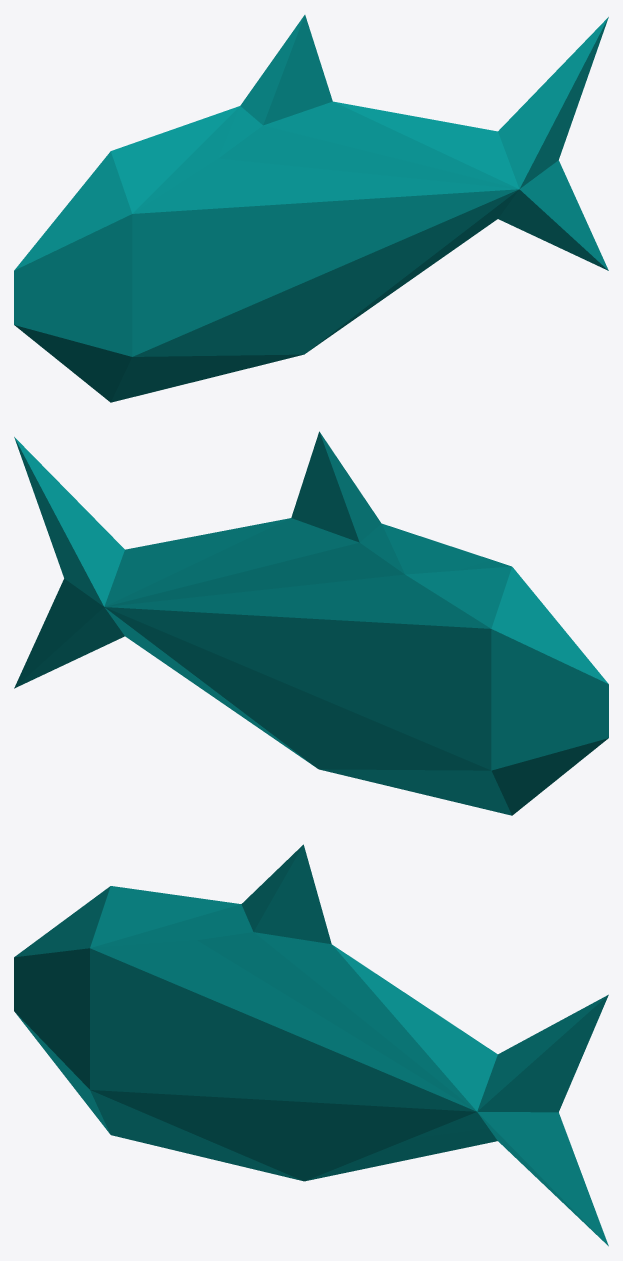
File: Animal_Fish_01.fbx
The picture shows the model from 3 angles, top to bottom: view 1: azimuth 30°, elevation 25°; view 2: azimuth 150°, elevation 25°; view 3: azimuth 330°, elevation 25°; orthographic projection.
Visible parts, largest first — view 1: Animal_Fish_01; view 2: Animal_Fish_01; view 3: Animal_Fish_01.
Part boxes in pixels (x1,y1,x2,y2): Animal_Fish_01: (14, 15, 608, 402); Animal_Fish_01: (14, 431, 608, 815); Animal_Fish_01: (14, 844, 608, 1246).
Size of the model in its own units: 369 by 201 by 47.33.
